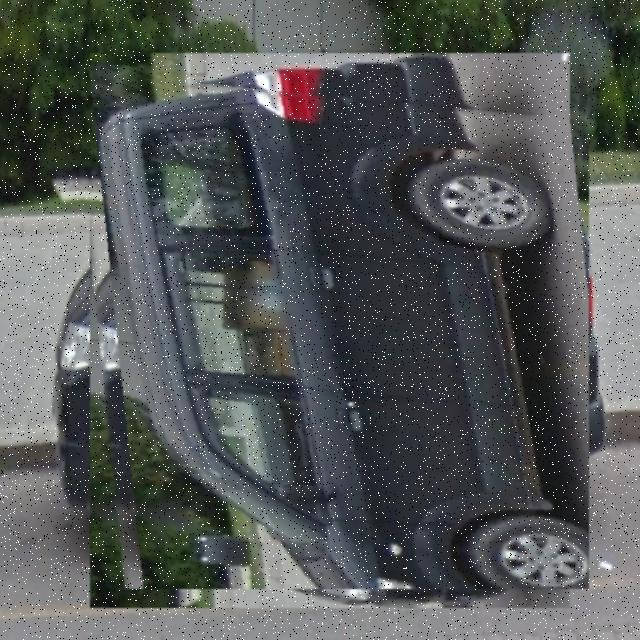car: (72, 72, 590, 590)
